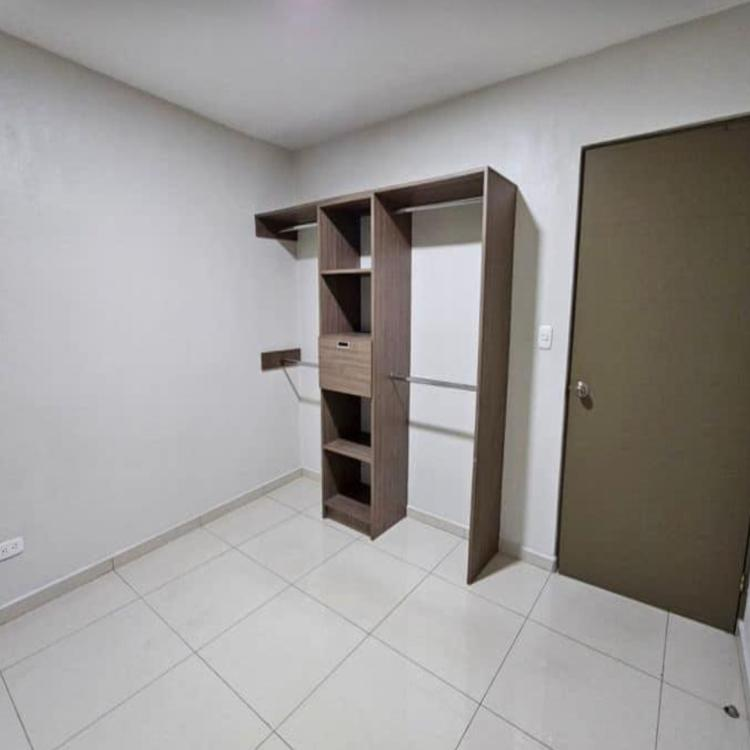ClosedDoor: (568, 109, 750, 637)
